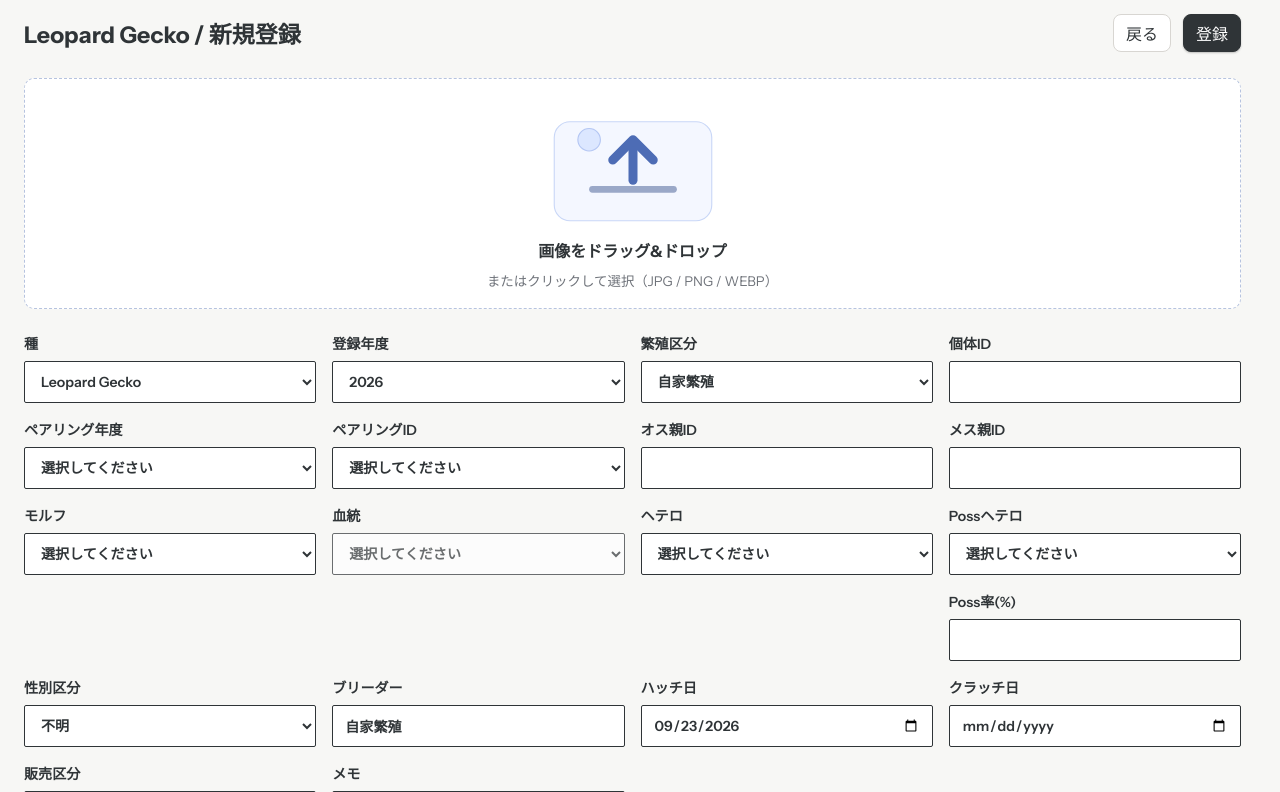
Test case: IndividualCreateScreen › allows self-breeding registration before pairing information is selected
The image size is (1280, 792).
Select "2025" in the dropdown labelled "ペアリング年度": point(170, 468) left=24, top=447, right=316, bottom=489
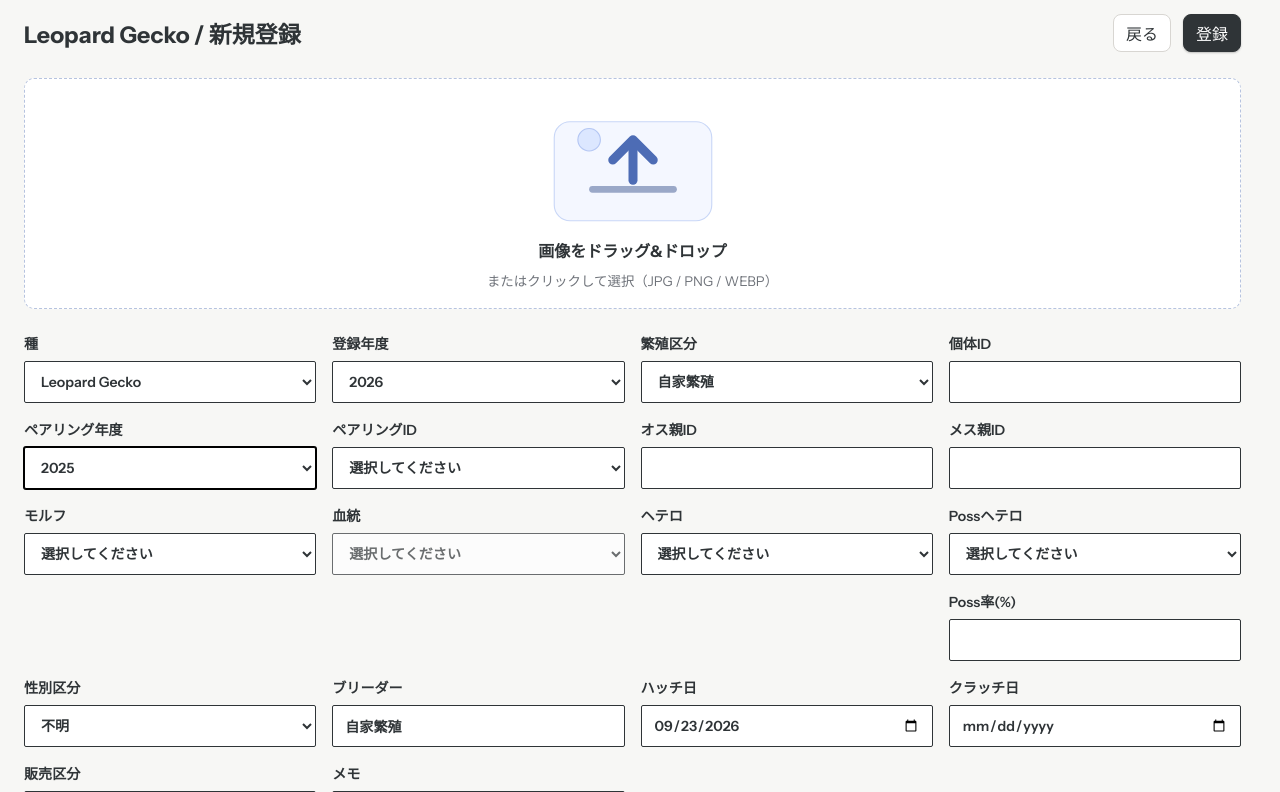
Select "購入個体" in the dropdown labelled "繁殖区分": point(787, 382) left=640, top=361, right=933, bottom=403
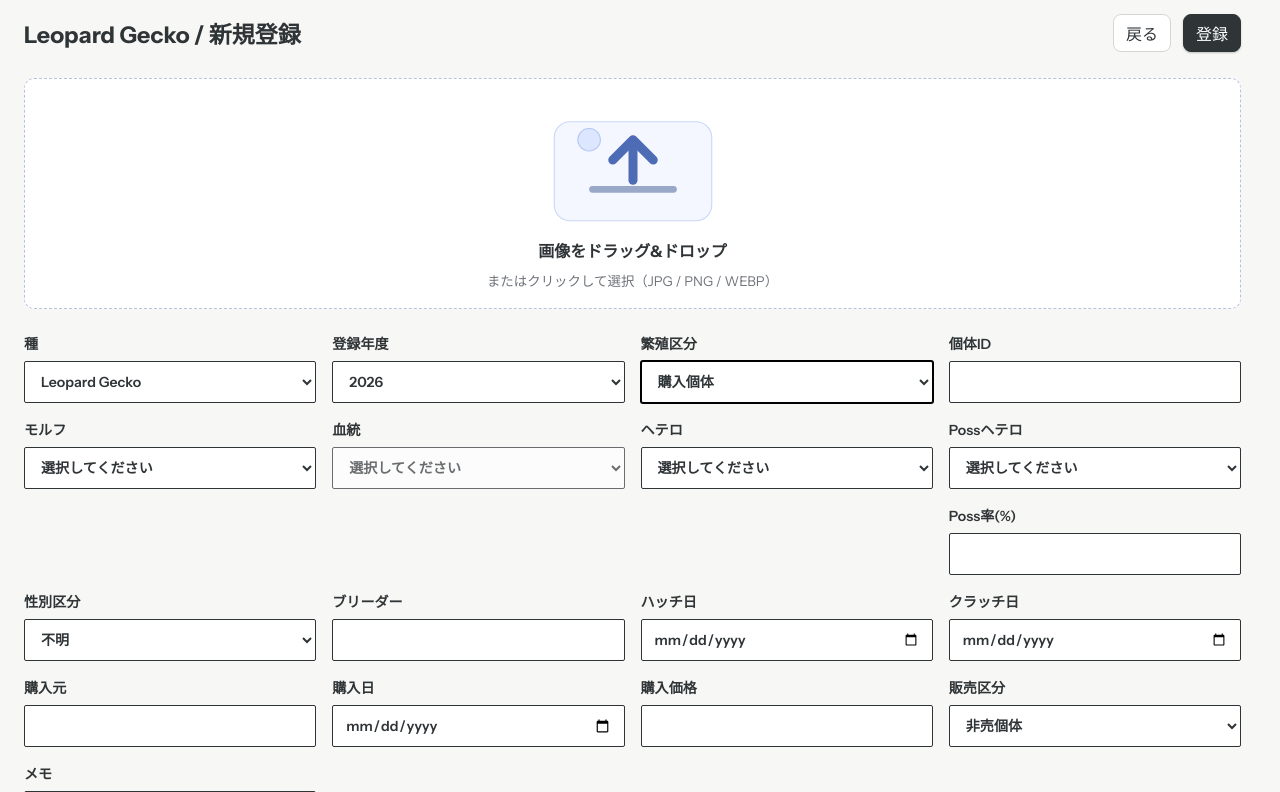
Now the label labelled "ペアリング年度" is gone
Now the label labelled "ペアリングID" is gone
Select "自家繁殖" in the dropdown labelled "繁殖区分": point(787, 382) left=640, top=361, right=933, bottom=403
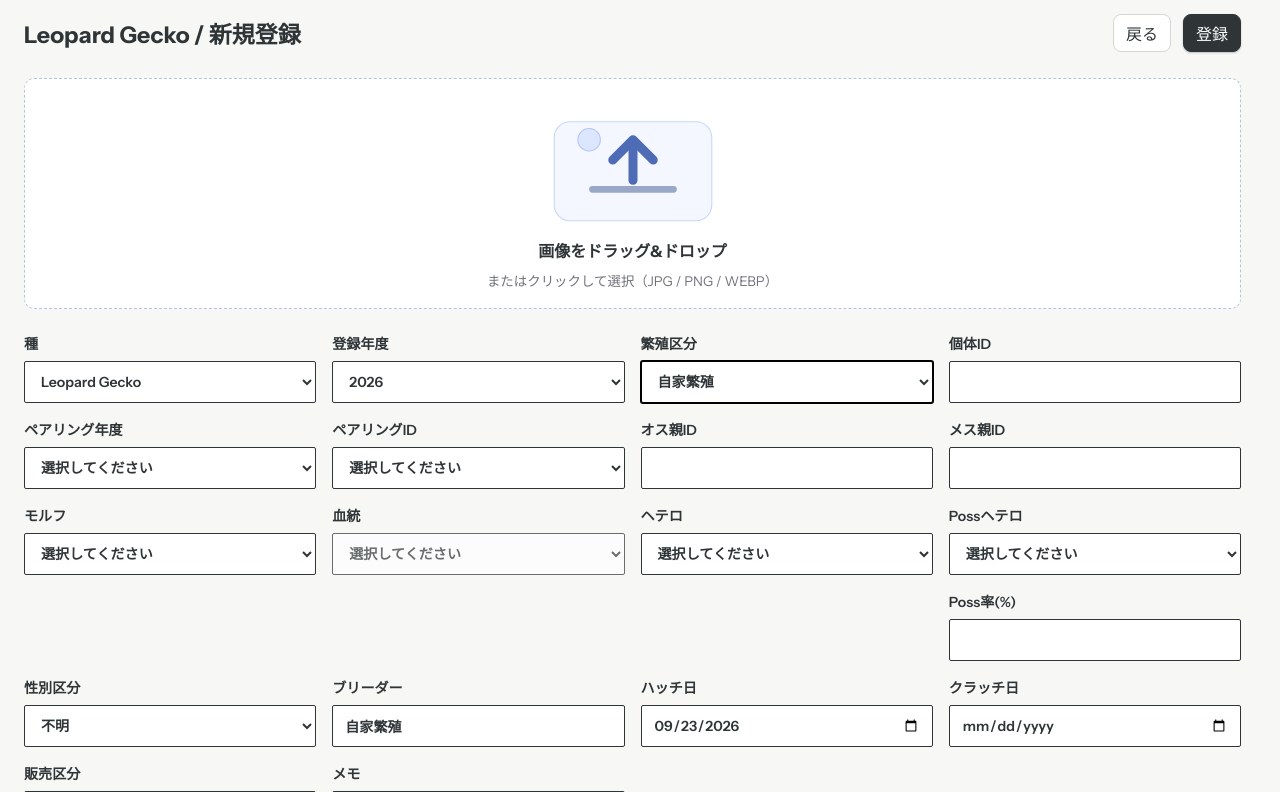
Expected: the dropdown labelled "ペアリング年度" shows "選択してください", left=24, top=447, right=316, bottom=489
Now the dropdown labelled "ペアリングID" shows "選択してください", box left=332, top=447, right=625, bottom=489
